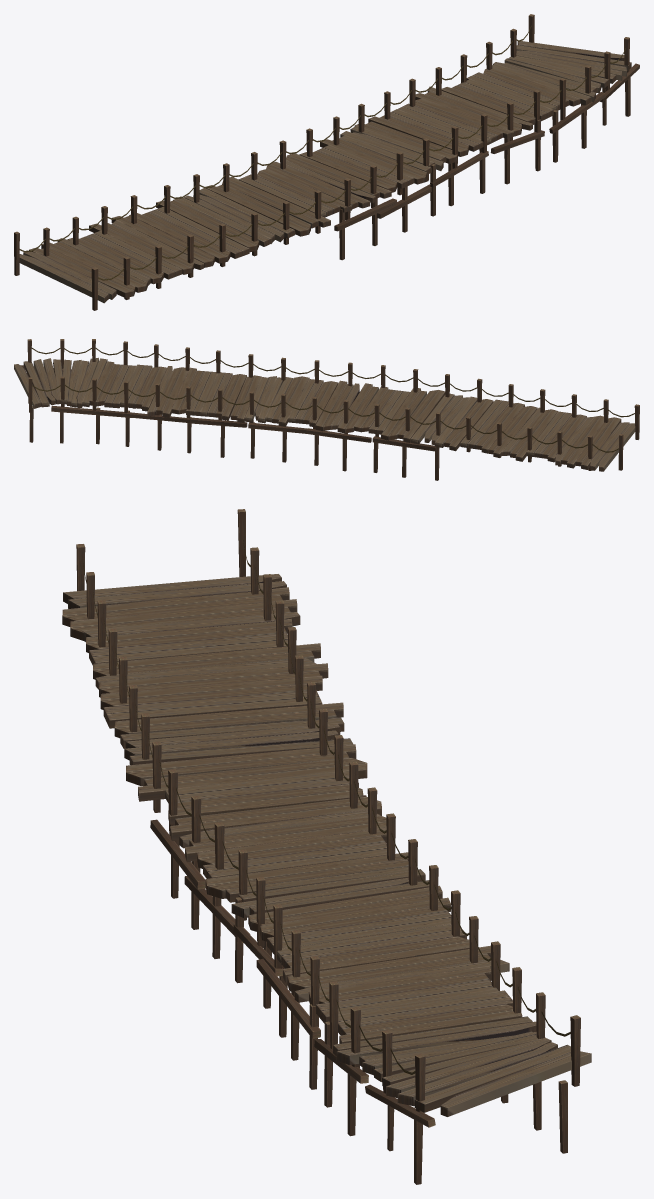
File: Area_16_4.fbx
3 views of the same model, one above another, from view 1: azimuth 30°, elevation 25°; view 2: azimuth 150°, elevation 25°; view 3: azimuth 270°, elevation 25° (orthographic). The views are drawn at different scales.
Visible parts, largest first — view 1: Area_16_4; view 2: Area_16_4; view 3: Area_16_4.
Boxes of the visible parts, x1=… form: Area_16_4: x1=14, y1=14, x2=639, y2=310; Area_16_4: x1=14, y1=339, x2=639, y2=480; Area_16_4: x1=62, y1=509, x2=591, y2=1184.
Bounding box in the file's own units: 6376 × 785 × 2603.
